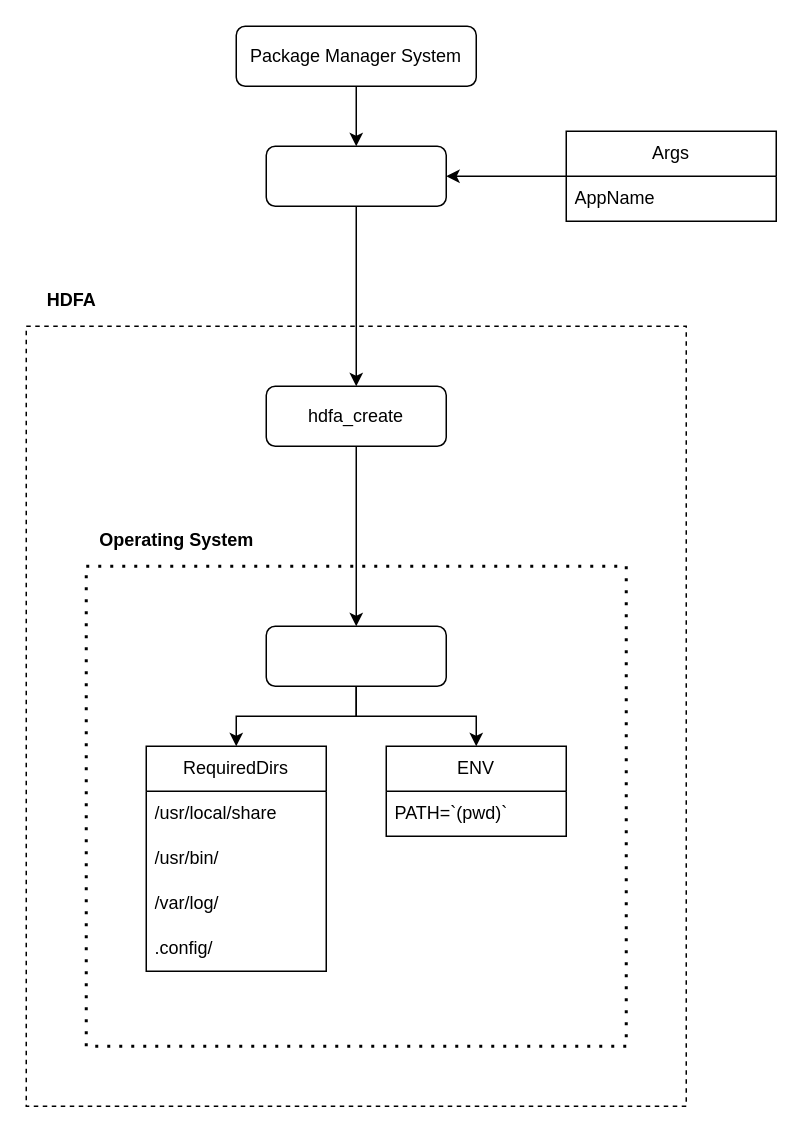
This 803x1134 diagram has some shape labels left out. Here are the shapes that lost their labels. From the top down, the centre of each, then its label:
At point 355,175: "install".
At point 355,655: "/home/$AppName/".
